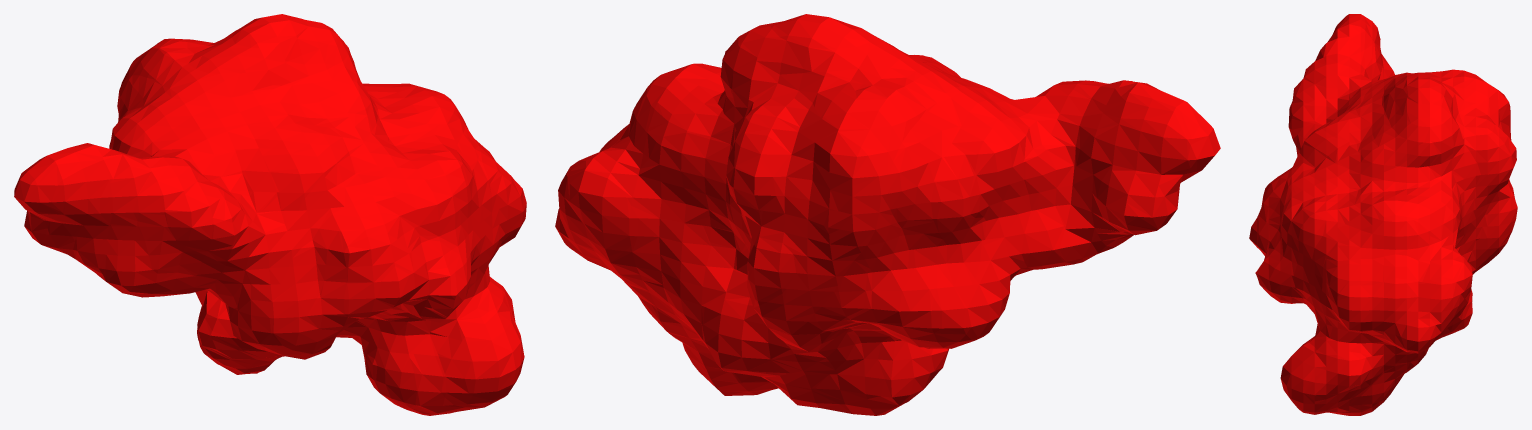
The model's file is accA_coarse.dae.
3 views of the same model, side by side, from view 1: azimuth 30°, elevation 25°; view 2: azimuth 150°, elevation 25°; view 3: azimuth 270°, elevation 25° (orthographic). The views are drawn at different scales.
Visible parts, largest first — view 1: accA; view 2: accA; view 3: accA.
Part boxes in pixels (bbox=[...]): accA: bbox=[14, 14, 526, 415]; accA: bbox=[555, 14, 1220, 415]; accA: bbox=[1249, 14, 1517, 415].
Size of the model in its own units: 100 by 69.37 by 57.84.
